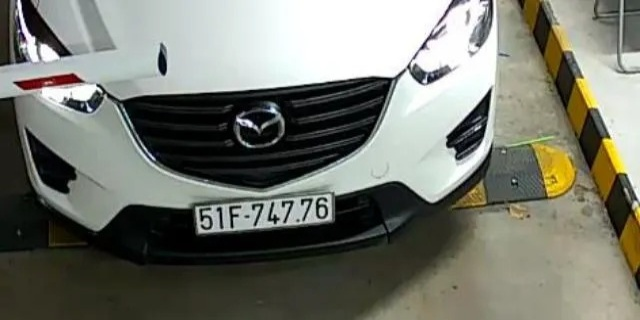bien_so: (196, 197, 334, 229)
